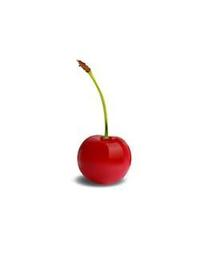cherry: (76, 134, 132, 185)
